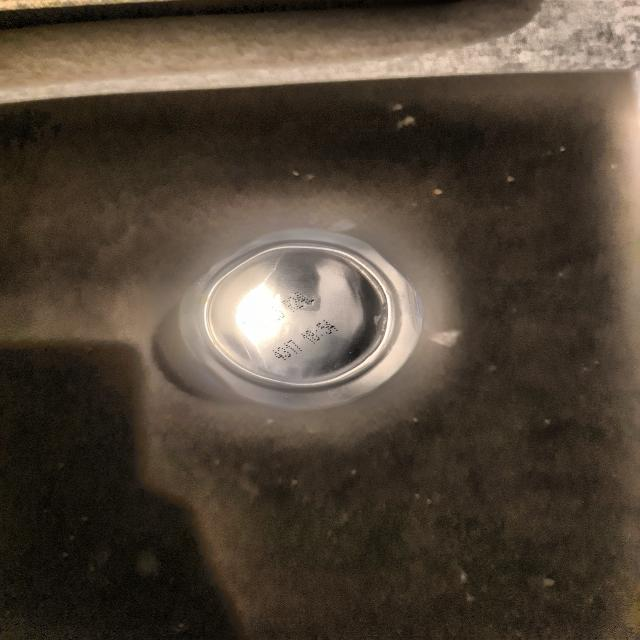pepsi-can: (186, 224, 432, 421)
